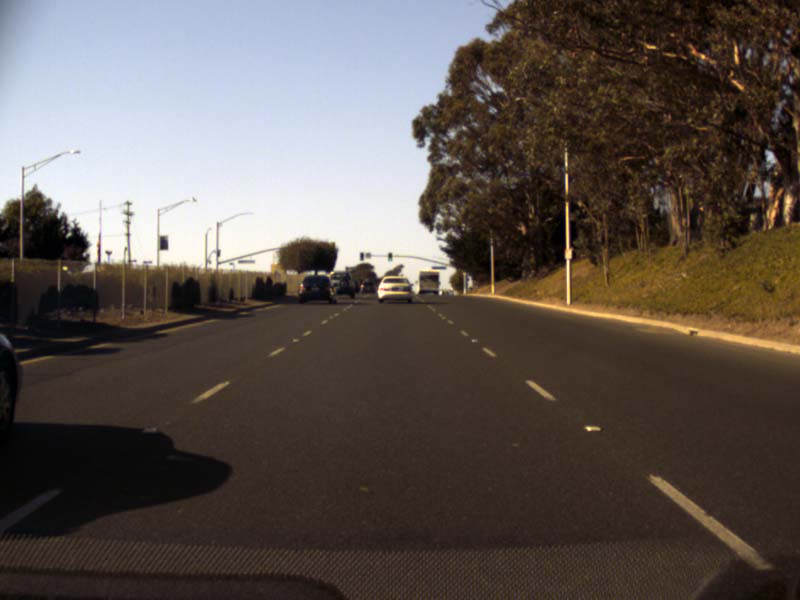Green: (387, 252, 392, 261)
